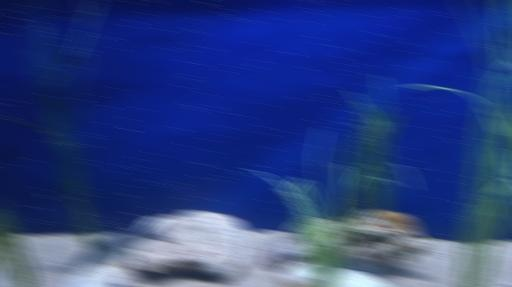Fish: (74, 219, 173, 268), (0, 265, 6, 286)
